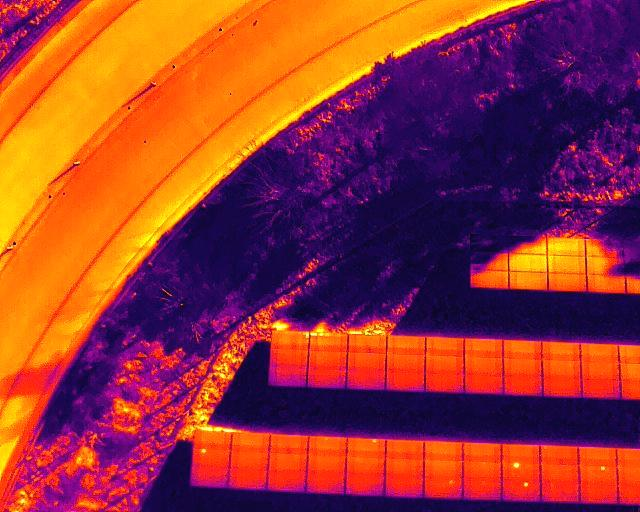Cell: (578, 464, 618, 486), (502, 462, 541, 482), (424, 478, 463, 498), (503, 480, 540, 501), (191, 450, 232, 468), (347, 438, 386, 456)
Cell-Multi: (309, 333, 346, 352), (271, 331, 310, 348)
No-Anomaly: (463, 478, 502, 500), (583, 380, 624, 400), (384, 458, 425, 478), (307, 453, 347, 473), (346, 476, 386, 496), (542, 361, 581, 381), (230, 453, 269, 473), (307, 370, 348, 389), (268, 471, 305, 492), (541, 446, 581, 465), (424, 441, 464, 460), (541, 463, 579, 483), (580, 344, 620, 363), (508, 270, 548, 289), (465, 339, 503, 359), (463, 442, 502, 461), (425, 355, 464, 374), (386, 355, 425, 374), (307, 473, 346, 492), (191, 468, 228, 488), (542, 483, 579, 503), (548, 274, 589, 292), (231, 434, 269, 453), (347, 456, 385, 475), (542, 342, 580, 361), (268, 435, 308, 453), (582, 363, 622, 381), (385, 479, 425, 497), (501, 444, 540, 462), (463, 461, 502, 479), (347, 335, 386, 353), (228, 473, 267, 491), (580, 485, 619, 503), (424, 375, 465, 392), (578, 447, 619, 464), (546, 239, 587, 256), (503, 360, 541, 378), (503, 341, 541, 359), (548, 256, 586, 274), (387, 337, 425, 355), (269, 348, 307, 366), (348, 354, 386, 372), (269, 368, 307, 386), (307, 436, 347, 453), (424, 461, 464, 478), (309, 352, 346, 370), (386, 375, 425, 392), (385, 441, 424, 458), (269, 454, 308, 471), (347, 372, 385, 389), (508, 255, 548, 271), (425, 339, 465, 355), (194, 432, 231, 449), (465, 359, 502, 376), (465, 376, 503, 392), (543, 382, 583, 397), (503, 379, 543, 394)
Shadowing: (470, 253, 509, 272), (588, 273, 627, 292), (508, 236, 547, 254), (586, 240, 627, 257), (470, 270, 508, 288), (587, 256, 625, 274), (469, 236, 508, 253)
